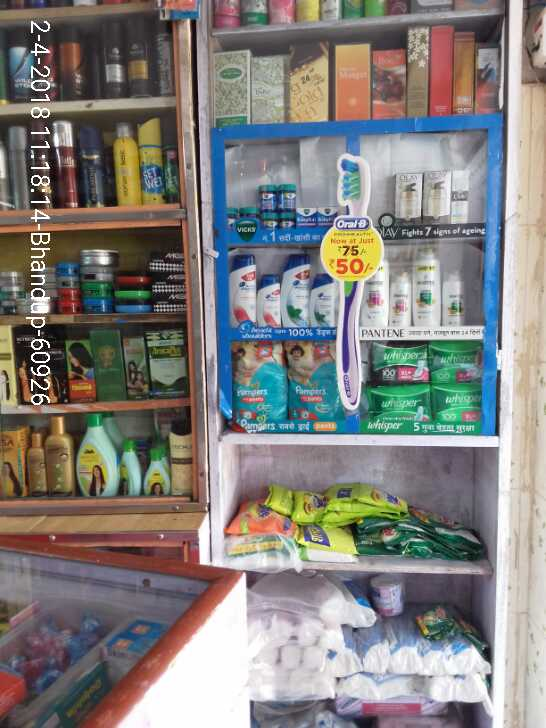vicks: (221, 176, 339, 229)
